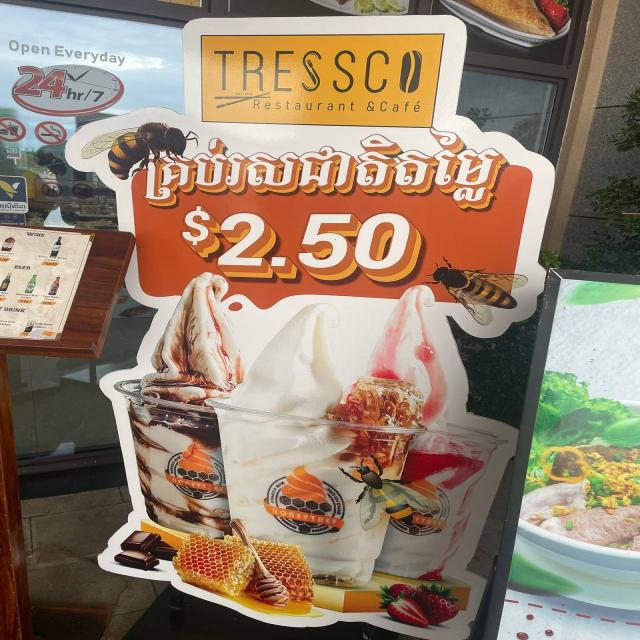133: (178, 211, 435, 284)
Yolov11_80vkh: (145, 126, 513, 211)
